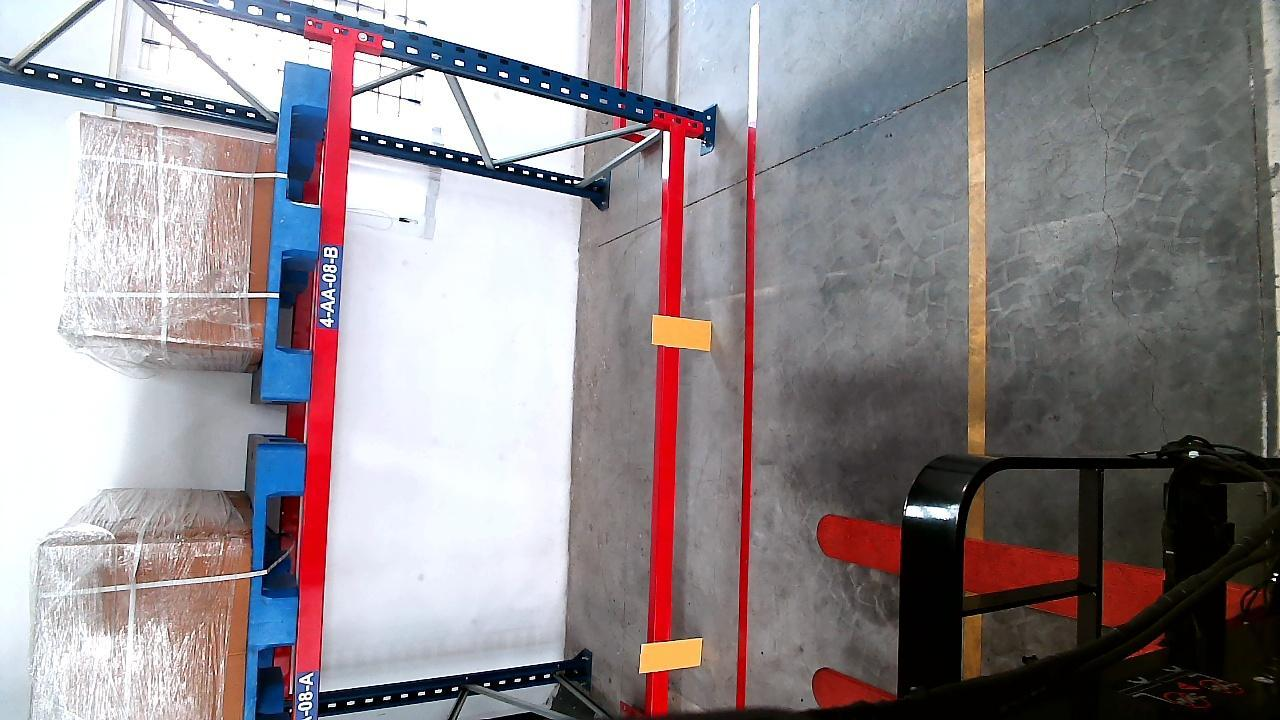red_line: (729, 129, 760, 707)
yellow_line: (966, 0, 991, 446)
